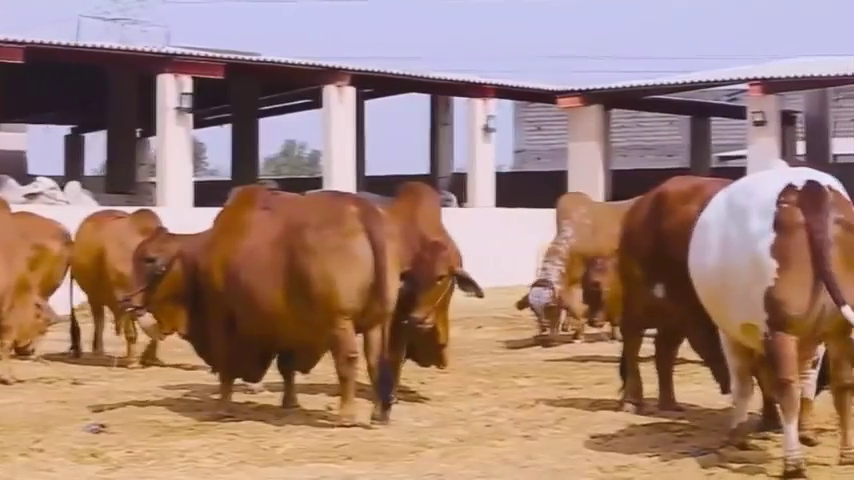bo: (118, 175, 393, 433), (685, 161, 850, 472), (348, 161, 493, 394), (607, 172, 726, 421), (513, 176, 624, 355), (66, 193, 166, 372), (2, 195, 60, 389), (570, 247, 626, 337)
